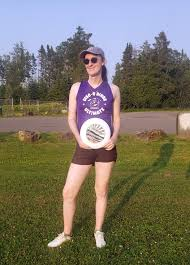disc: (81, 116, 111, 149)
